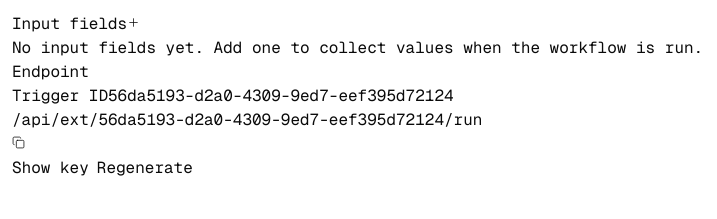
ExternalTriggerInspector › reports management errors without showing a key
Click the button "Show key" at (50, 168), box [12,156,89,180]
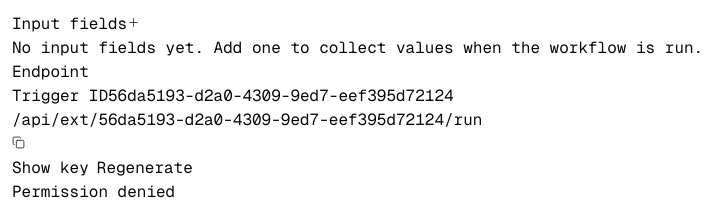
Expected: the message reads "Permission denied", [12,181,175,202]
